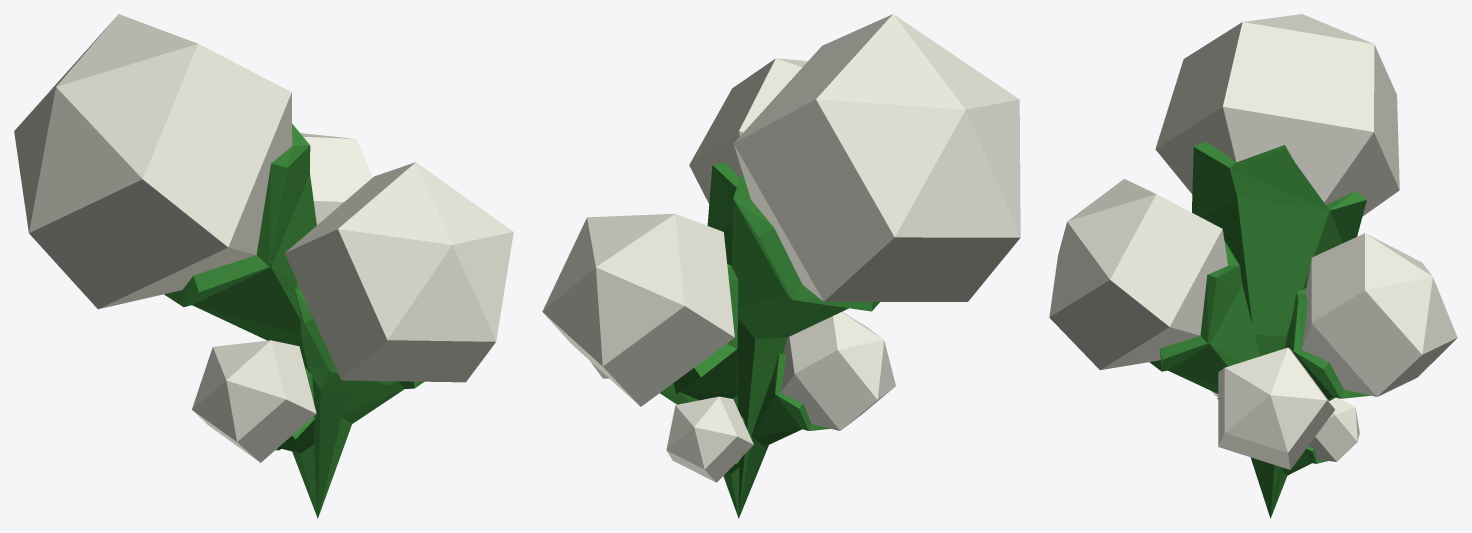
File: Flower_03.FBX
3 views of the same model, side by side, from view 1: azimuth 30°, elevation 25°; view 2: azimuth 150°, elevation 25°; view 3: azimuth 270°, elevation 25° (orthographic). The views are drawn at different scales.
Parts seen in each view (by area): view 1: Flower_03; view 2: Flower_03; view 3: Flower_03.
Boxes of the visible parts, x1,y1,x2,y2 form: Flower_03: [14, 14, 513, 518]; Flower_03: [542, 14, 1020, 518]; Flower_03: [1049, 14, 1457, 518].
Bounding box in the file's own units: 1.5 × 1.69 × 1.42.
